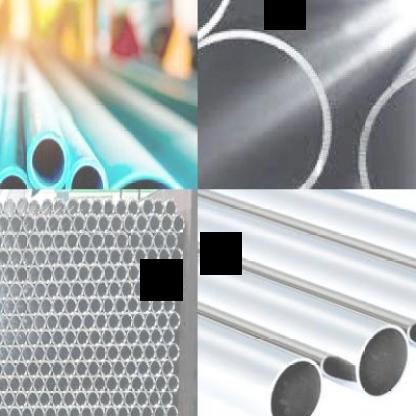pipe: (198, 28, 337, 189), (353, 59, 416, 189), (358, 324, 411, 400), (269, 356, 323, 416), (27, 130, 70, 189), (67, 158, 108, 189), (0, 165, 33, 189), (172, 212, 186, 235), (78, 196, 92, 218), (34, 214, 48, 236), (9, 214, 23, 236), (66, 196, 80, 218), (3, 197, 17, 218), (53, 197, 67, 218), (72, 213, 86, 234), (28, 231, 42, 252), (3, 231, 17, 252), (71, 247, 85, 268), (163, 262, 177, 283), (88, 327, 102, 348), (2, 328, 16, 349), (90, 196, 103, 218), (16, 196, 29, 218), (145, 278, 158, 300), (144, 310, 157, 332), (132, 310, 145, 332), (141, 196, 154, 218), (59, 214, 73, 234), (78, 230, 92, 250), (53, 231, 67, 251), (170, 246, 184, 266), (34, 248, 48, 268), (40, 264, 54, 284), (15, 264, 29, 284), (95, 280, 109, 300), (58, 280, 72, 300), (101, 296, 115, 316), (76, 296, 90, 316), (51, 296, 65, 316), (27, 297, 41, 317), (94, 312, 108, 332), (82, 312, 96, 332), (63, 328, 77, 348), (94, 343, 108, 363), (69, 343, 83, 363), (20, 344, 34, 364), (130, 373, 144, 393), (28, 197, 41, 218), (41, 197, 54, 218), (148, 213, 161, 234), (160, 213, 173, 234), (85, 213, 98, 234), (47, 214, 60, 235), (66, 231, 79, 252), (41, 231, 54, 252), (16, 231, 29, 252), (146, 246, 159, 267), (134, 246, 147, 267), (158, 247, 171, 268), (96, 247, 109, 268), (84, 247, 97, 268), (59, 247, 72, 268), (47, 247, 60, 268), (34, 280, 47, 301), (9, 280, 22, 301), (101, 327, 114, 348), (15, 328, 28, 349), (27, 328, 40, 349), (151, 263, 165, 282), (121, 278, 133, 300), (102, 198, 115, 218), (15, 390, 28, 410), (22, 214, 35, 234), (128, 230, 141, 250), (165, 230, 178, 250), (109, 247, 122, 267), (22, 248, 35, 268), (127, 263, 140, 283), (102, 263, 115, 283), (115, 263, 128, 283), (77, 264, 90, 284), (90, 264, 103, 284), (53, 264, 66, 284), (28, 264, 41, 284), (3, 264, 16, 284), (157, 279, 170, 299), (133, 279, 146, 299), (83, 280, 96, 300), (46, 280, 59, 300), (114, 295, 127, 315), (89, 296, 102, 316), (64, 296, 77, 316), (40, 297, 53, 317), (3, 297, 16, 317), (70, 312, 83, 332), (21, 313, 34, 333), (150, 326, 163, 346), (76, 328, 89, 348), (119, 343, 132, 363), (82, 343, 95, 363), (33, 344, 46, 364), (9, 344, 22, 364), (154, 373, 167, 393), (141, 229, 153, 250), (163, 294, 175, 315), (139, 294, 151, 315), (33, 314, 47, 332), (39, 329, 53, 347), (127, 198, 140, 217), (62, 390, 75, 409), (50, 390, 63, 409), (110, 214, 123, 233), (139, 263, 152, 282), (22, 281, 35, 300), (58, 313, 71, 332), (167, 342, 180, 361), (45, 344, 58, 363), (161, 358, 174, 377), (51, 359, 64, 378), (136, 213, 148, 233), (123, 214, 135, 234), (98, 214, 110, 234), (153, 230, 165, 250), (103, 230, 115, 250), (116, 230, 128, 250), (91, 230, 103, 250), (122, 247, 134, 267), (10, 248, 22, 268), (66, 264, 78, 284), (109, 279, 121, 299), (71, 280, 83, 300), (16, 297, 28, 317), (120, 311, 132, 331), (108, 312, 120, 332), (46, 312, 58, 332), (162, 326, 174, 346), (126, 327, 138, 347), (155, 342, 167, 362), (107, 343, 119, 363), (149, 358, 161, 378), (137, 358, 149, 378), (63, 358, 75, 378), (39, 358, 51, 378), (148, 390, 161, 408), (160, 390, 173, 408), (111, 390, 124, 408), (99, 390, 112, 408), (136, 391, 149, 409), (126, 296, 139, 314), (168, 312, 181, 330), (9, 314, 22, 332), (138, 328, 151, 346), (51, 329, 64, 347), (87, 359, 100, 377), (112, 359, 125, 377), (75, 359, 88, 377), (15, 360, 28, 378), (142, 374, 155, 392), (81, 375, 94, 393), (93, 375, 106, 393), (118, 375, 131, 393), (57, 375, 70, 393), (153, 198, 165, 217), (115, 198, 127, 217), (165, 198, 177, 217), (3, 390, 15, 409), (27, 390, 39, 409), (132, 343, 144, 362), (21, 375, 33, 394), (33, 375, 45, 394), (9, 375, 21, 394), (87, 390, 99, 408), (124, 390, 136, 408), (75, 390, 87, 408), (170, 280, 182, 298), (151, 296, 163, 314), (157, 312, 169, 330), (114, 328, 126, 346), (143, 343, 155, 361), (125, 359, 137, 377), (100, 359, 112, 377), (27, 360, 39, 378), (3, 360, 15, 378), (167, 374, 179, 392), (106, 375, 118, 393), (69, 375, 81, 393), (45, 375, 57, 393), (0, 247, 10, 268), (0, 280, 10, 301), (39, 391, 51, 408), (58, 345, 70, 362), (0, 213, 9, 235), (0, 374, 9, 393), (0, 313, 9, 331), (152, 404, 165, 416), (80, 403, 92, 416), (92, 404, 105, 416), (68, 404, 81, 416), (43, 404, 56, 416), (129, 404, 142, 416), (20, 404, 33, 416), (0, 345, 9, 362), (105, 404, 117, 416), (116, 404, 128, 416), (165, 404, 177, 416), (56, 404, 68, 416), (32, 404, 44, 416), (8, 404, 20, 416), (141, 404, 152, 416), (0, 405, 9, 416), (0, 198, 3, 218), (0, 231, 3, 251), (0, 264, 3, 284), (0, 328, 3, 348), (0, 358, 3, 378), (0, 390, 3, 409), (0, 298, 3, 316)
